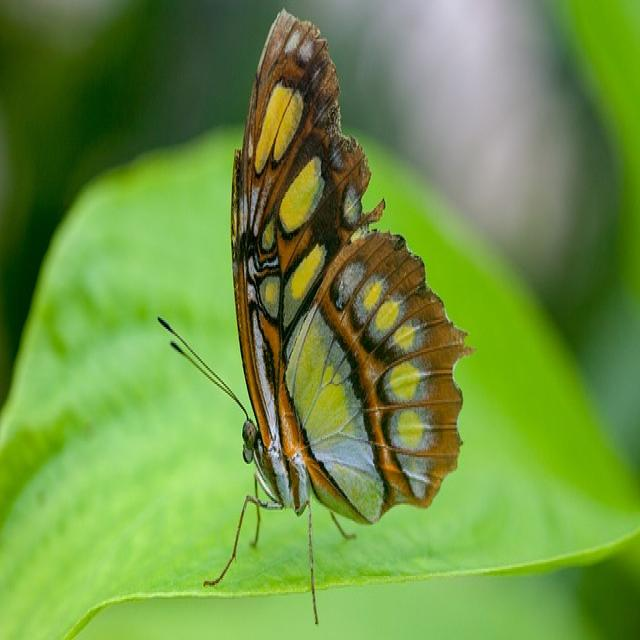butterfly: (231, 11, 468, 523)
